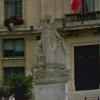Statue: (26, 10, 71, 88)
